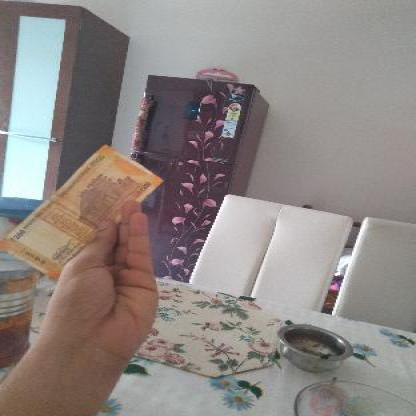New200Back: (3, 141, 160, 266)
